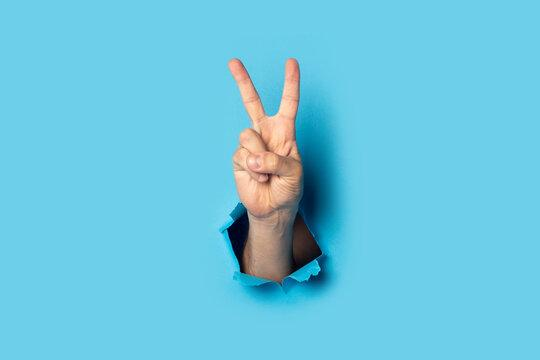peace_sign: (223, 52, 322, 222)
